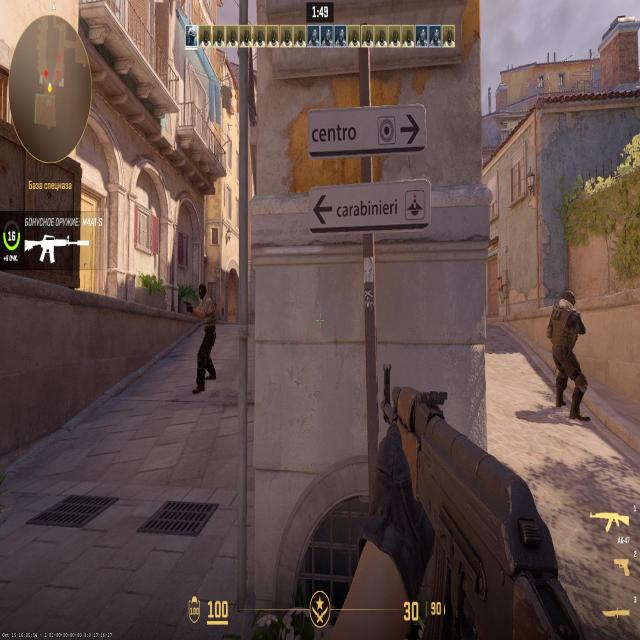CT: (552, 288, 580, 419)
CT_heat: (564, 290, 574, 316)
T: (195, 284, 212, 382)
T_heat: (199, 282, 204, 300)
